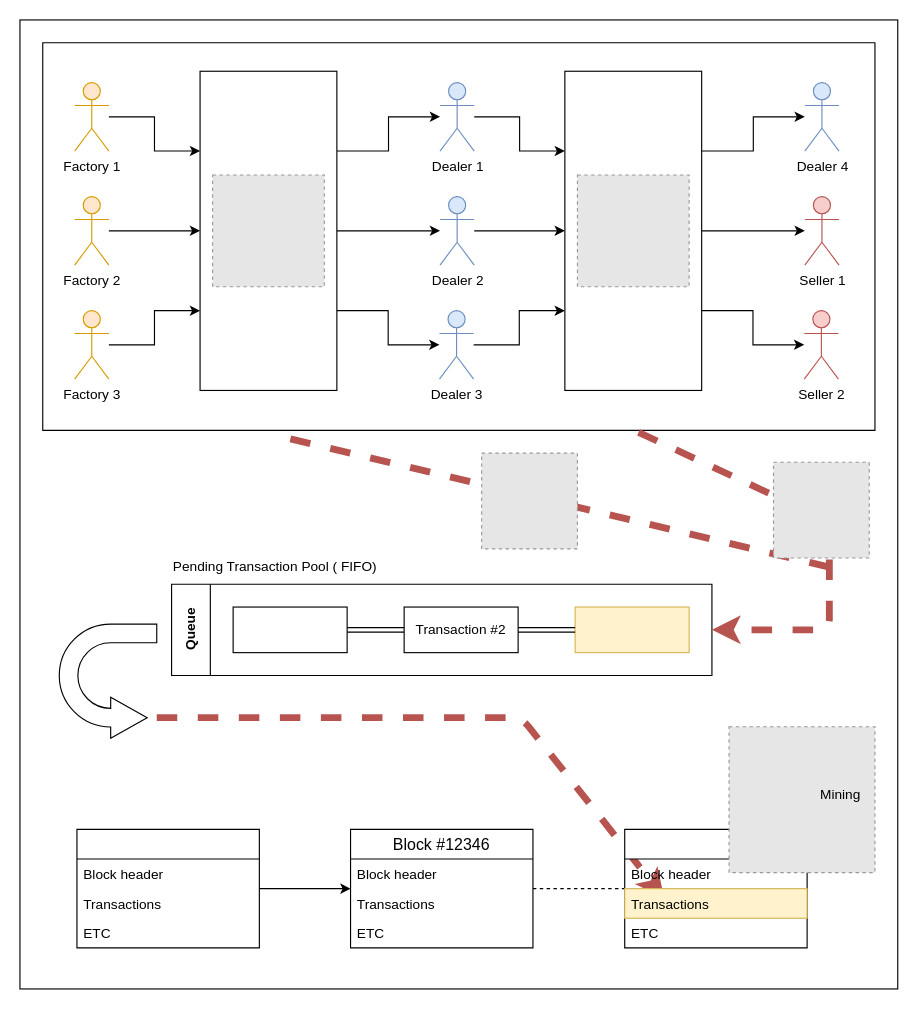
This 918x1009 diagram has some shape labels left out. Grey dashed boxes stand in for pictures. The shapes that lost their labels are listed below. From the top down, each one's box as (x1, y1, x2, y2) in pixels, then its label:
(199, 70, 337, 390): Contract function() _maskMaking()
(564, 70, 702, 390): Contract function() _startMaskDeal()
(232, 606, 347, 653): Transaction #1
(574, 606, 689, 653): Transaction #3
(76, 828, 259, 948): Block #12345
(624, 828, 807, 948): Block #12347
